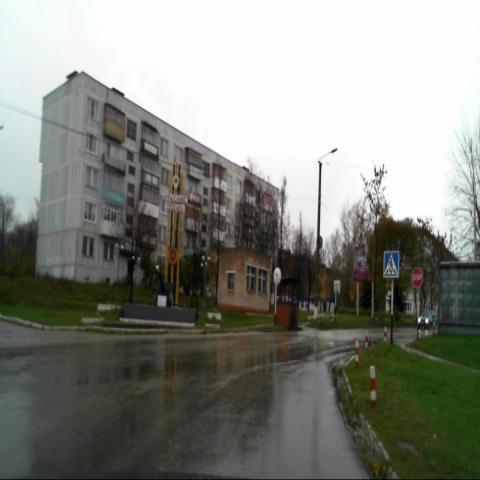2_5: (411, 268, 423, 288)
